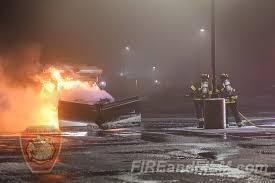fire: (29, 66, 92, 128)
